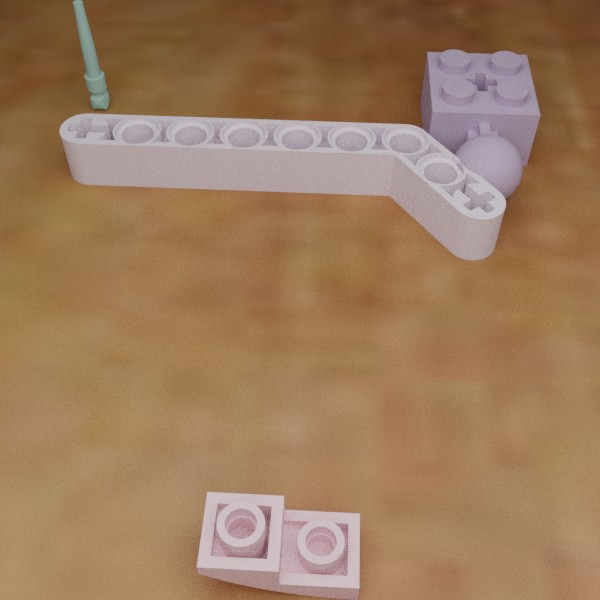lego: (59, 113, 505, 260), (420, 49, 540, 204), (196, 492, 359, 599), (72, 0, 109, 109)
